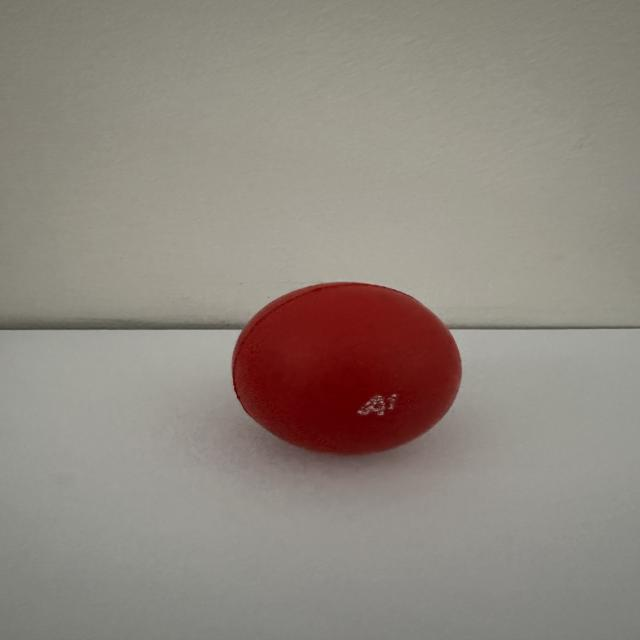red_ball: (223, 262, 478, 473)
